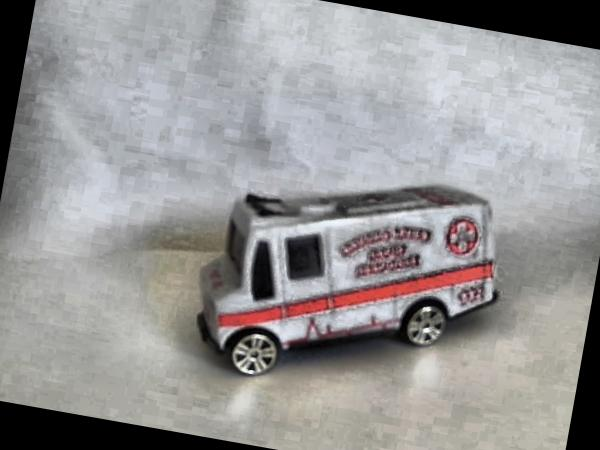ambulance: (184, 143, 514, 416)
